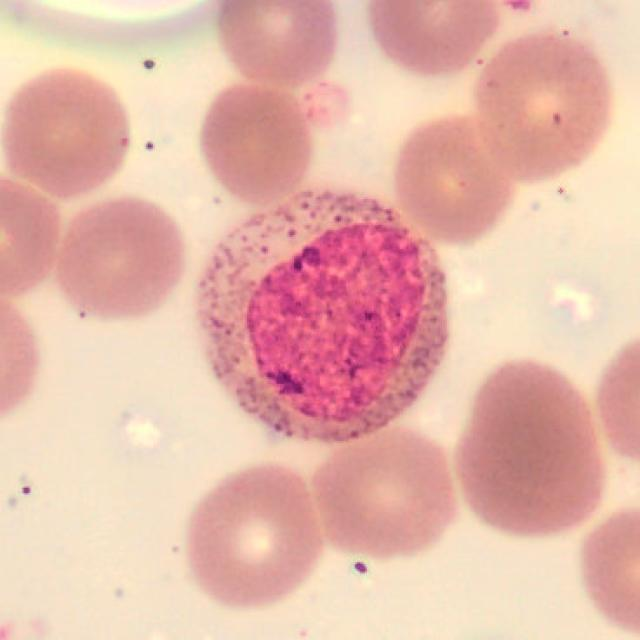Mielocito: (195, 190, 450, 445)
